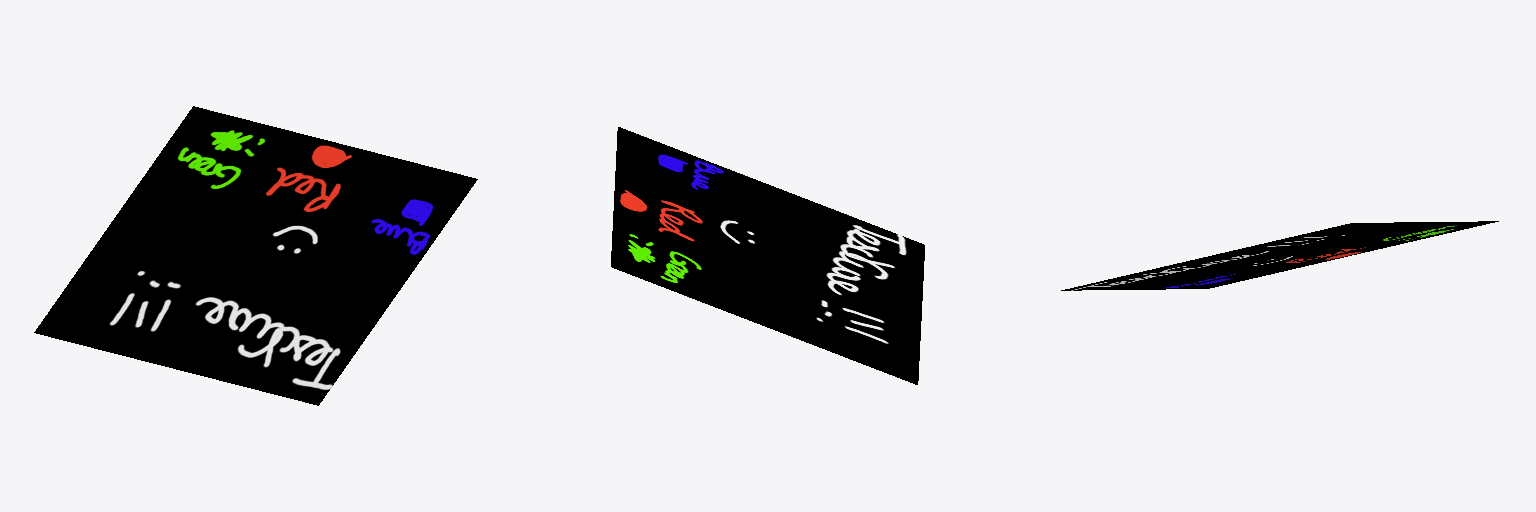
The picture shows the model from 3 angles: view 1: azimuth 30°, elevation 25°; view 2: azimuth 150°, elevation 25°; view 3: azimuth 270°, elevation 25°; orthographic projection.
Parts seen in each view (by area): view 1: Mesh; view 2: Mesh; view 3: Mesh.
Boxes of the visible parts, x1,y1,x2,y2 form: Mesh: [34, 106, 477, 405]; Mesh: [611, 127, 924, 384]; Mesh: [1061, 221, 1498, 290].
Bounding box in the file's own units: 2.58 × 0.7668 × 2.64.
Materials: 1 (1 with a texture image).